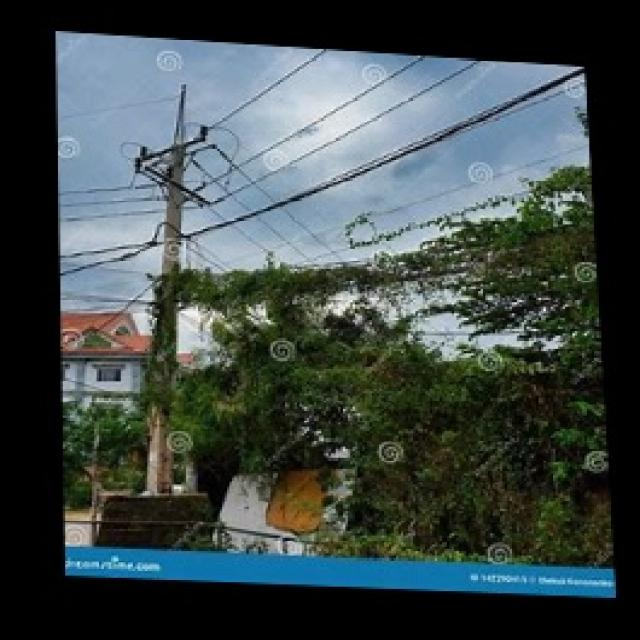critical vegetation: (168, 220, 599, 376)
